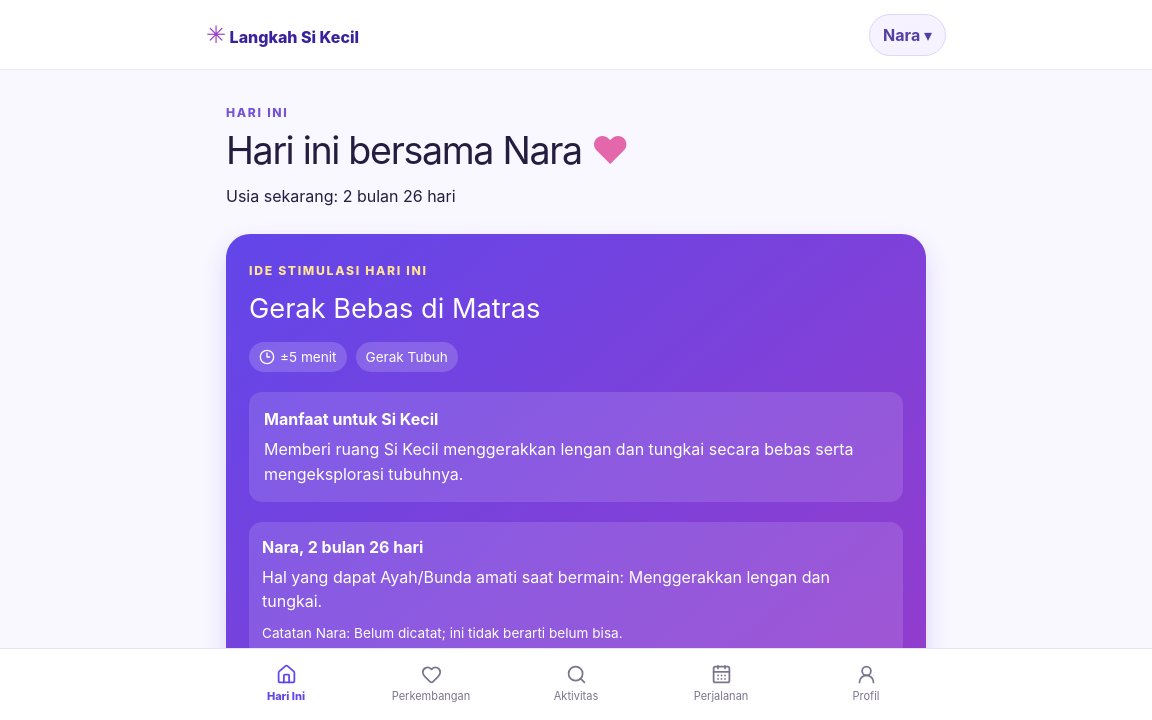
Test: mengedit tanggal lahir tanpa menghilangkan identitas anak dan catatan yang sudah ada
Step 1. Click the button "Profil" → (866, 684), box x1=794 y1=649 x2=938 y2=719
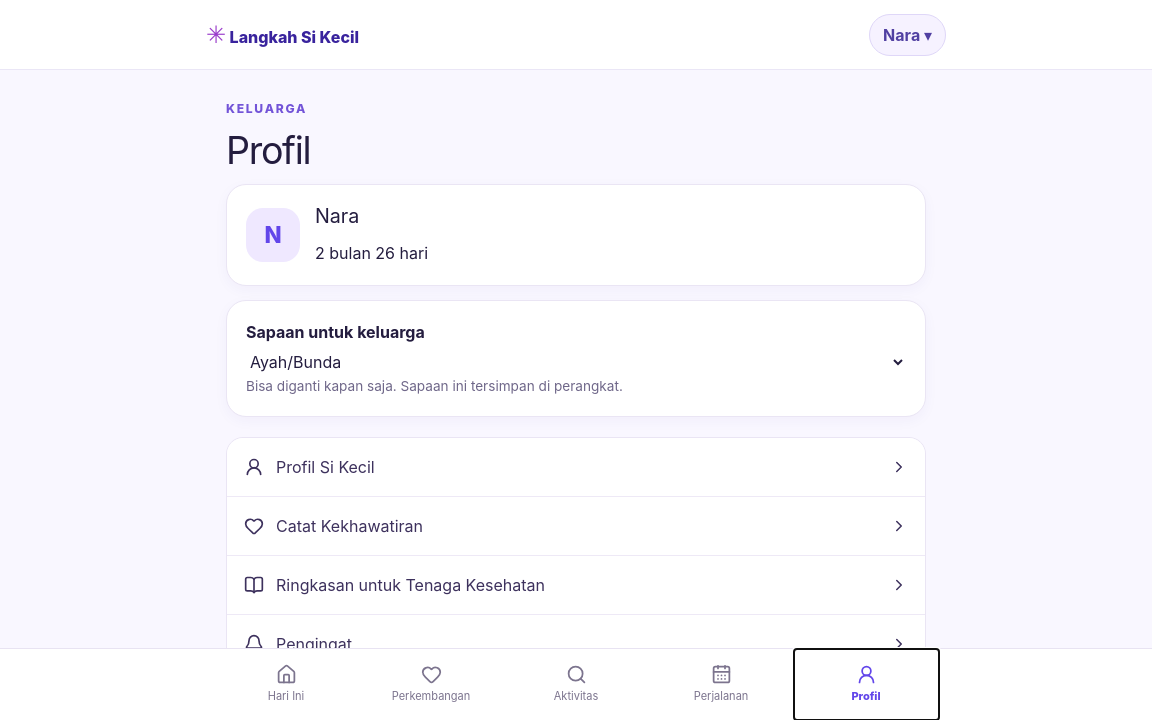
Step 2. Click the button "Profil Si Kecil" → (325, 467), box x1=227 y1=438 x2=925 y2=496
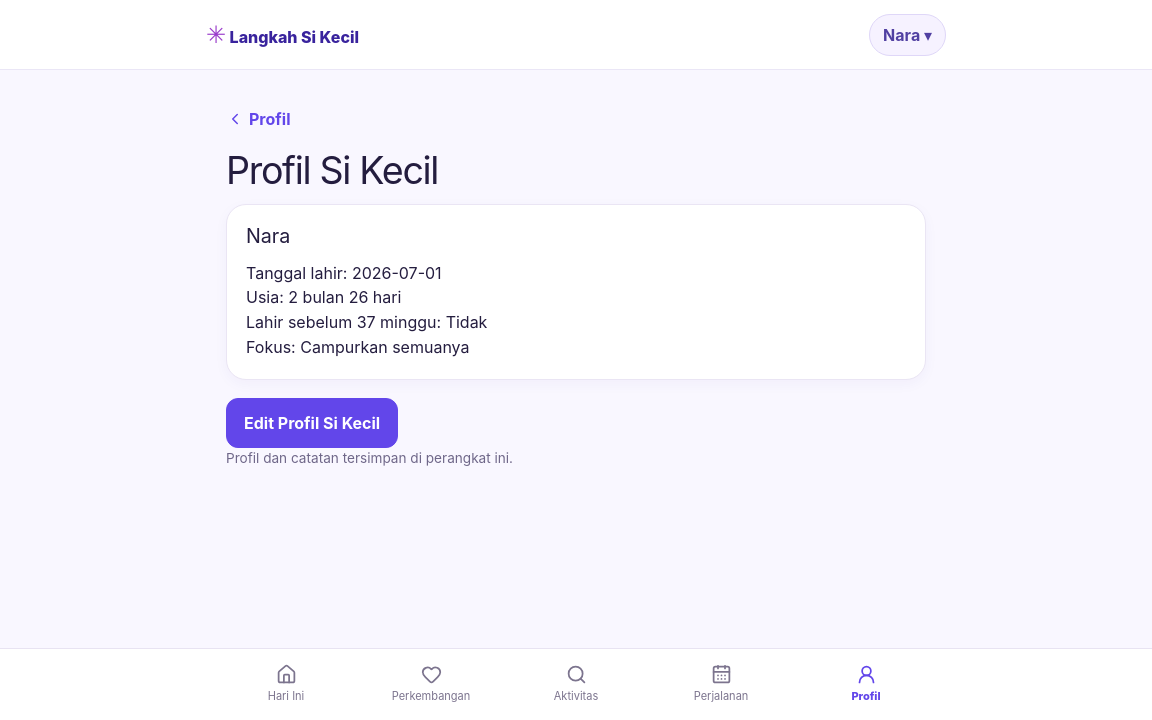
Step 3. Click the button "Edit Profil Si Kecil" → (312, 423), box x1=226 y1=398 x2=398 y2=448
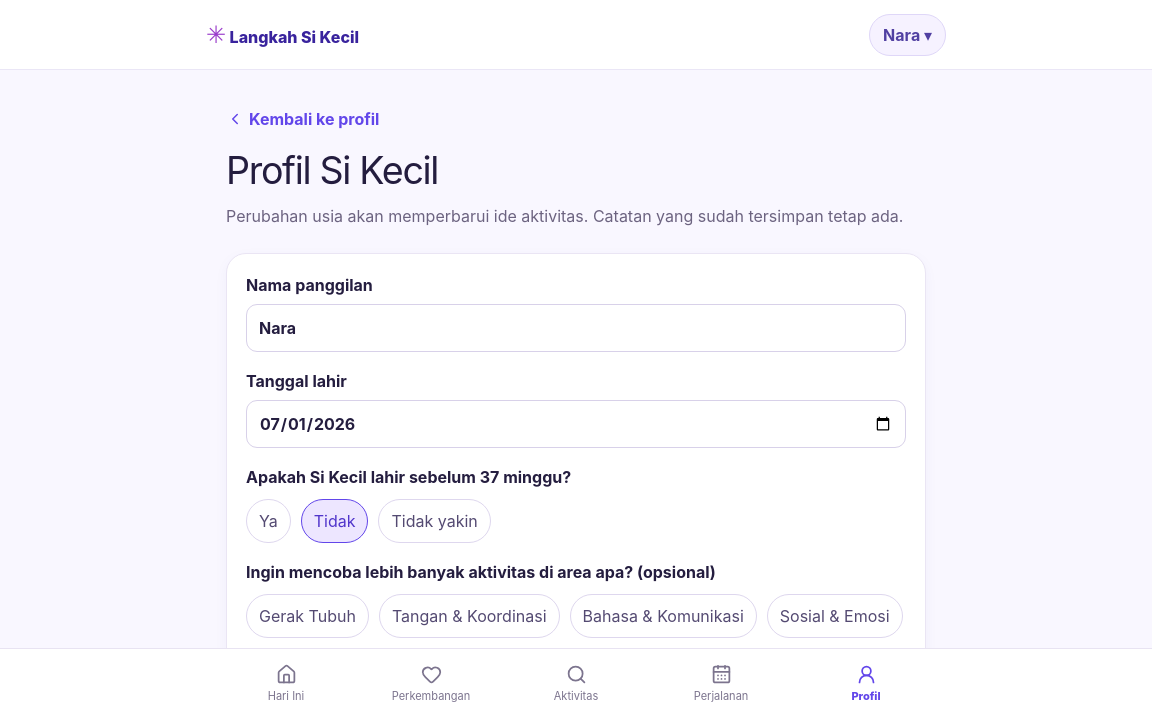
Step 4. Type "2026-08-01" into the date field labelled "Tanggal lahir" → (576, 424), box x1=246 y1=400 x2=906 y2=448
(page scrolled)
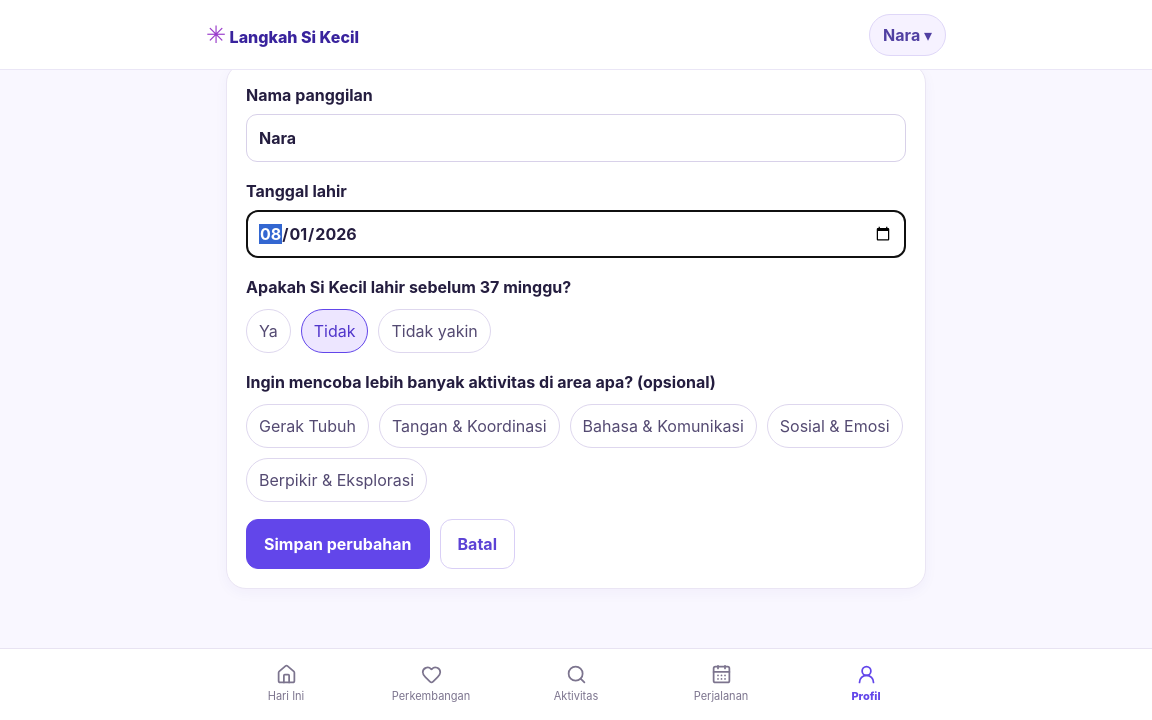
Step 5. Click the button "Simpan perubahan" → (338, 544), box x1=246 y1=519 x2=430 y2=569
(page scrolled)
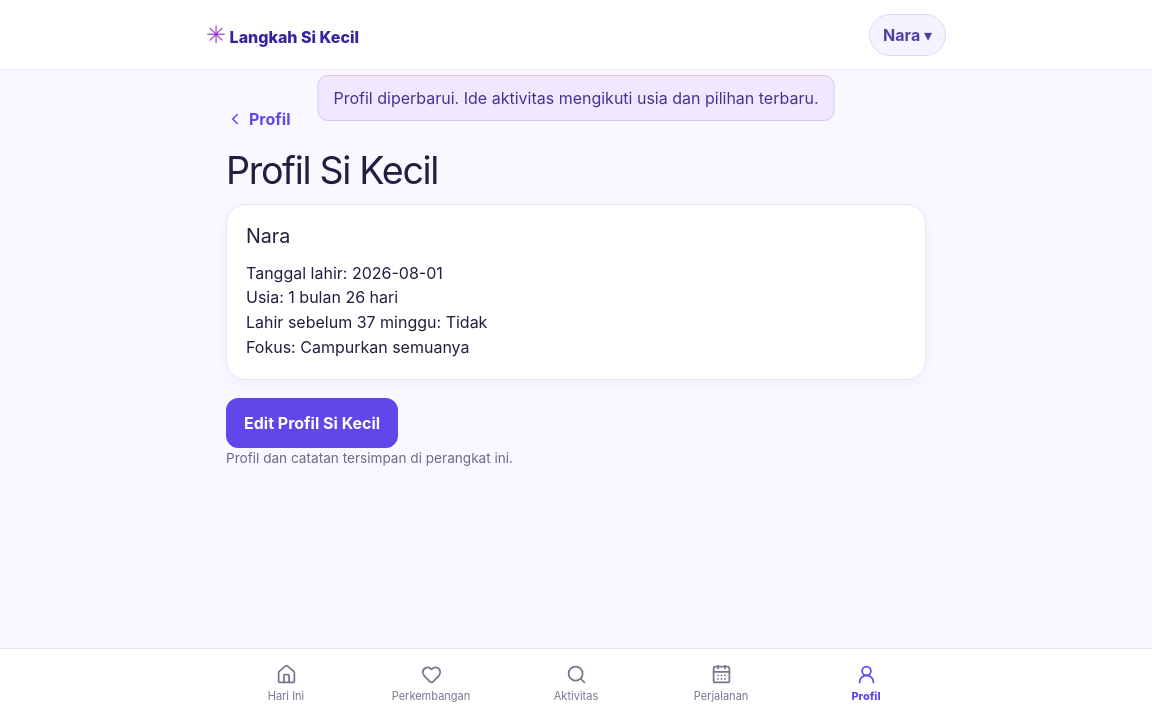
Check: the text "Tanggal lahir: 2026-08-01" is shown, box x1=246 y1=262 x2=443 y2=282
